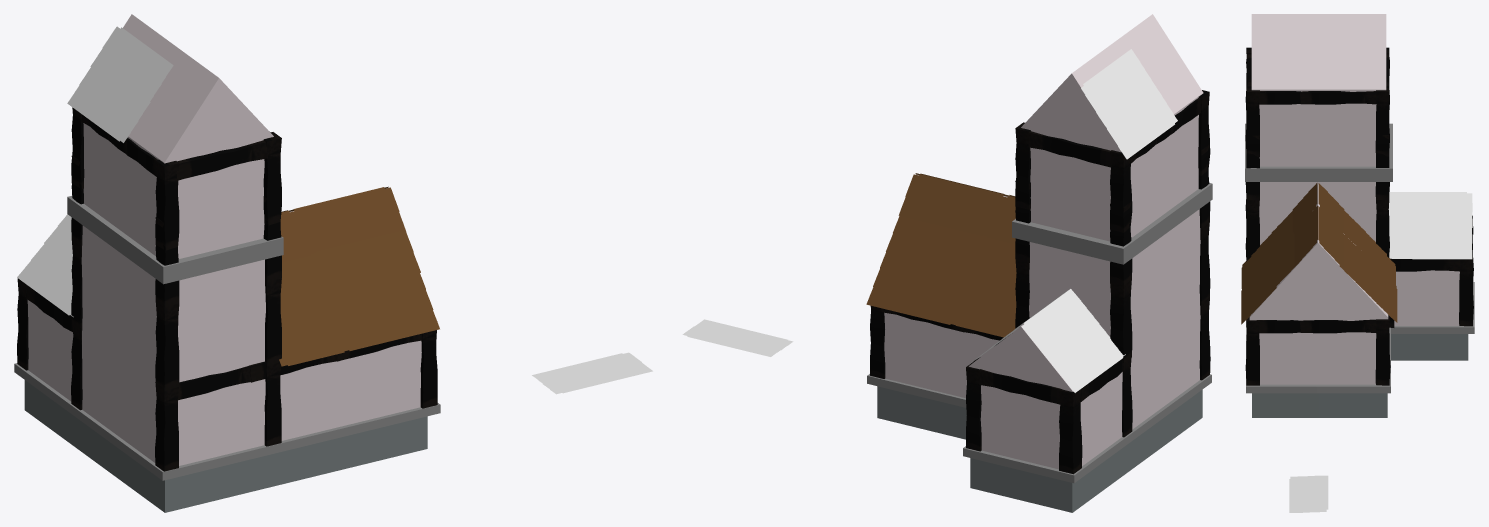
Rendered from housetest.glb.
The picture shows the model from 3 angles, left to right: view 1: azimuth 30°, elevation 25°; view 2: azimuth 150°, elevation 25°; view 3: azimuth 270°, elevation 25°; orthographic projection. The views are drawn at different scales.
Visible parts, largest first — view 1: Plane, Plane.007, Plane.005, Plane.006, Plane.035, Plane.004, Cube.013, Cube.011, Cube.010, Cube.033, Cube.009, Cube.007 (+12 smaller); view 2: Plane, Plane.016, Plane.005, Plane.003, Plane.006, Plane.004, Plane.035, Cube.002, Cube.017, Cube.015, Cube.028, Cube.022 (+10 smaller); view 3: Plane, Plane.016, Plane.007, Plane.001, Plane.002, Plane.035, Cube.032, Cube.035, Cube.004, Cube.001, Cube.009, Cube.005 (+8 smaller).
Part boxes in pixels (x1,y1,x2,y2): Plane: [14, 14, 440, 512]; Plane.007: [279, 187, 439, 366]; Plane.005: [90, 26, 173, 106]; Plane.006: [67, 67, 150, 142]; Plane.035: [532, 352, 652, 394]; Plane.004: [17, 244, 73, 317]; Cube.013: [155, 159, 179, 250]; Cube.011: [155, 302, 179, 391]; Cube.010: [155, 382, 178, 471]; Cube.033: [176, 140, 267, 180]; Cube.009: [263, 132, 281, 225]; Cube.007: [265, 278, 281, 366]; Plane: [867, 14, 1212, 512]; Plane.016: [866, 174, 1016, 337]; Plane.005: [1081, 49, 1155, 125]; Plane.003: [1022, 289, 1099, 361]; Plane.006: [1105, 87, 1177, 159]; Plane.004: [1050, 324, 1125, 392]; Plane.035: [682, 319, 793, 356]; Cube.002: [1059, 388, 1082, 474]; Cube.017: [1110, 150, 1132, 232]; Cube.015: [1110, 280, 1132, 362]; Cube.028: [1028, 131, 1111, 167]; Cube.022: [979, 369, 1062, 404]; Plane: [1245, 14, 1474, 417]; Plane.016: [1318, 183, 1397, 322]; Plane.007: [1241, 183, 1317, 324]; Plane.001: [1388, 192, 1472, 227]; Plane.002: [1389, 227, 1472, 259]; Plane.035: [1289, 475, 1328, 512]; Cube.032: [1300, 91, 1376, 104]; Cube.035: [1300, 319, 1376, 333]; Cube.004: [1375, 315, 1390, 385]; Cube.001: [1459, 253, 1473, 326]; Cube.009: [1245, 86, 1259, 156]; Cube.005: [1245, 317, 1259, 385].
Bounding box in the file's own units: 6.83 × 5.31 × 3.44.
20 materials, 1 textured.
